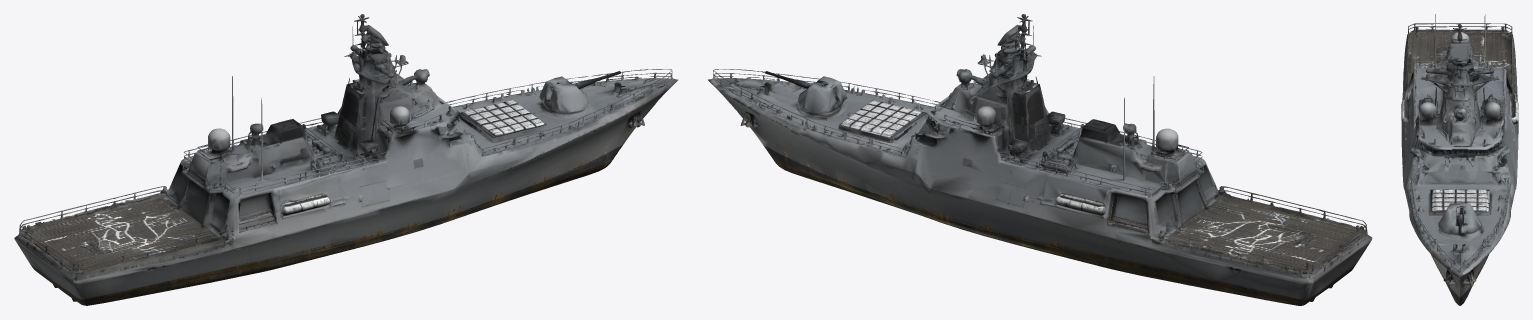
File: boat_frigate.glb
The picture shows the model from 3 angles, left to right: view 1: azimuth 30°, elevation 25°; view 2: azimuth 150°, elevation 25°; view 3: azimuth 270°, elevation 25°; orthographic projection. The views are drawn at different scales.
Visible parts, largest first — view 1: node_0; view 2: node_0; view 3: node_0.
Boxes of the visible parts, x1,y1,x2,y2 form: node_0: [14, 14, 678, 305]; node_0: [708, 14, 1372, 305]; node_0: [1401, 14, 1518, 305].
Size of the model in its own units: 1.17 by 0.3745 by 0.2193.
Materials: 1 (1 with a texture image).
